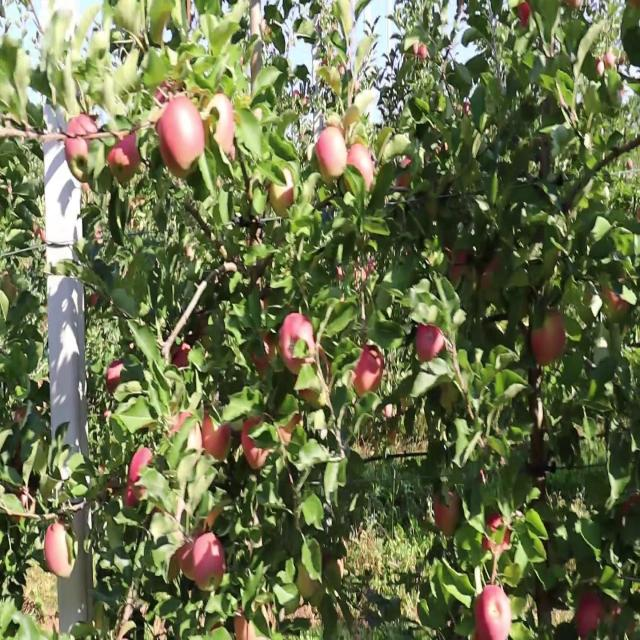apple: (160, 99, 208, 180), (280, 312, 317, 375), (300, 348, 333, 412), (532, 312, 568, 370), (64, 113, 99, 172), (476, 583, 512, 639), (44, 519, 77, 580), (208, 92, 236, 162), (196, 533, 227, 592), (316, 127, 347, 183), (240, 419, 270, 475), (128, 447, 156, 505), (352, 348, 385, 396), (432, 490, 462, 539), (348, 142, 376, 194), (484, 511, 512, 562), (204, 412, 232, 462), (576, 590, 604, 639), (116, 135, 143, 183), (268, 177, 296, 219), (416, 327, 447, 364), (8, 483, 35, 524), (172, 533, 195, 581), (252, 334, 276, 377), (176, 419, 203, 457), (296, 561, 319, 603), (276, 412, 302, 448), (132, 447, 155, 484), (604, 284, 630, 315), (480, 255, 500, 293), (448, 248, 469, 284), (448, 241, 469, 277), (356, 255, 377, 288), (168, 412, 193, 439), (200, 504, 223, 533), (124, 483, 148, 510), (344, 106, 361, 144), (396, 156, 413, 192), (172, 341, 192, 370), (108, 362, 125, 396), (252, 7, 270, 37), (604, 597, 621, 624), (620, 497, 640, 519), (236, 611, 251, 639), (196, 312, 210, 340), (596, 56, 615, 76), (16, 405, 28, 427), (520, 7, 532, 28)
